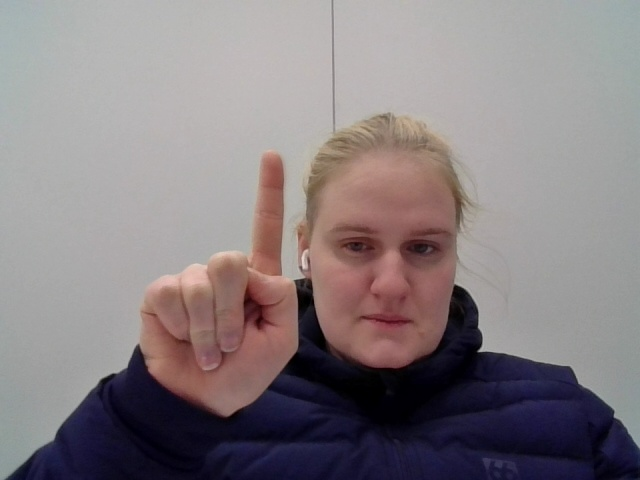up: (132, 145, 305, 420)
